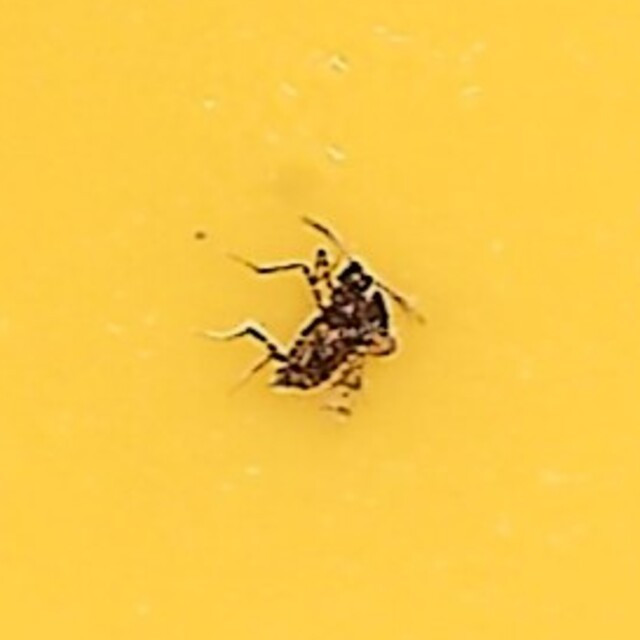Nematocera: (234, 234, 406, 406)
